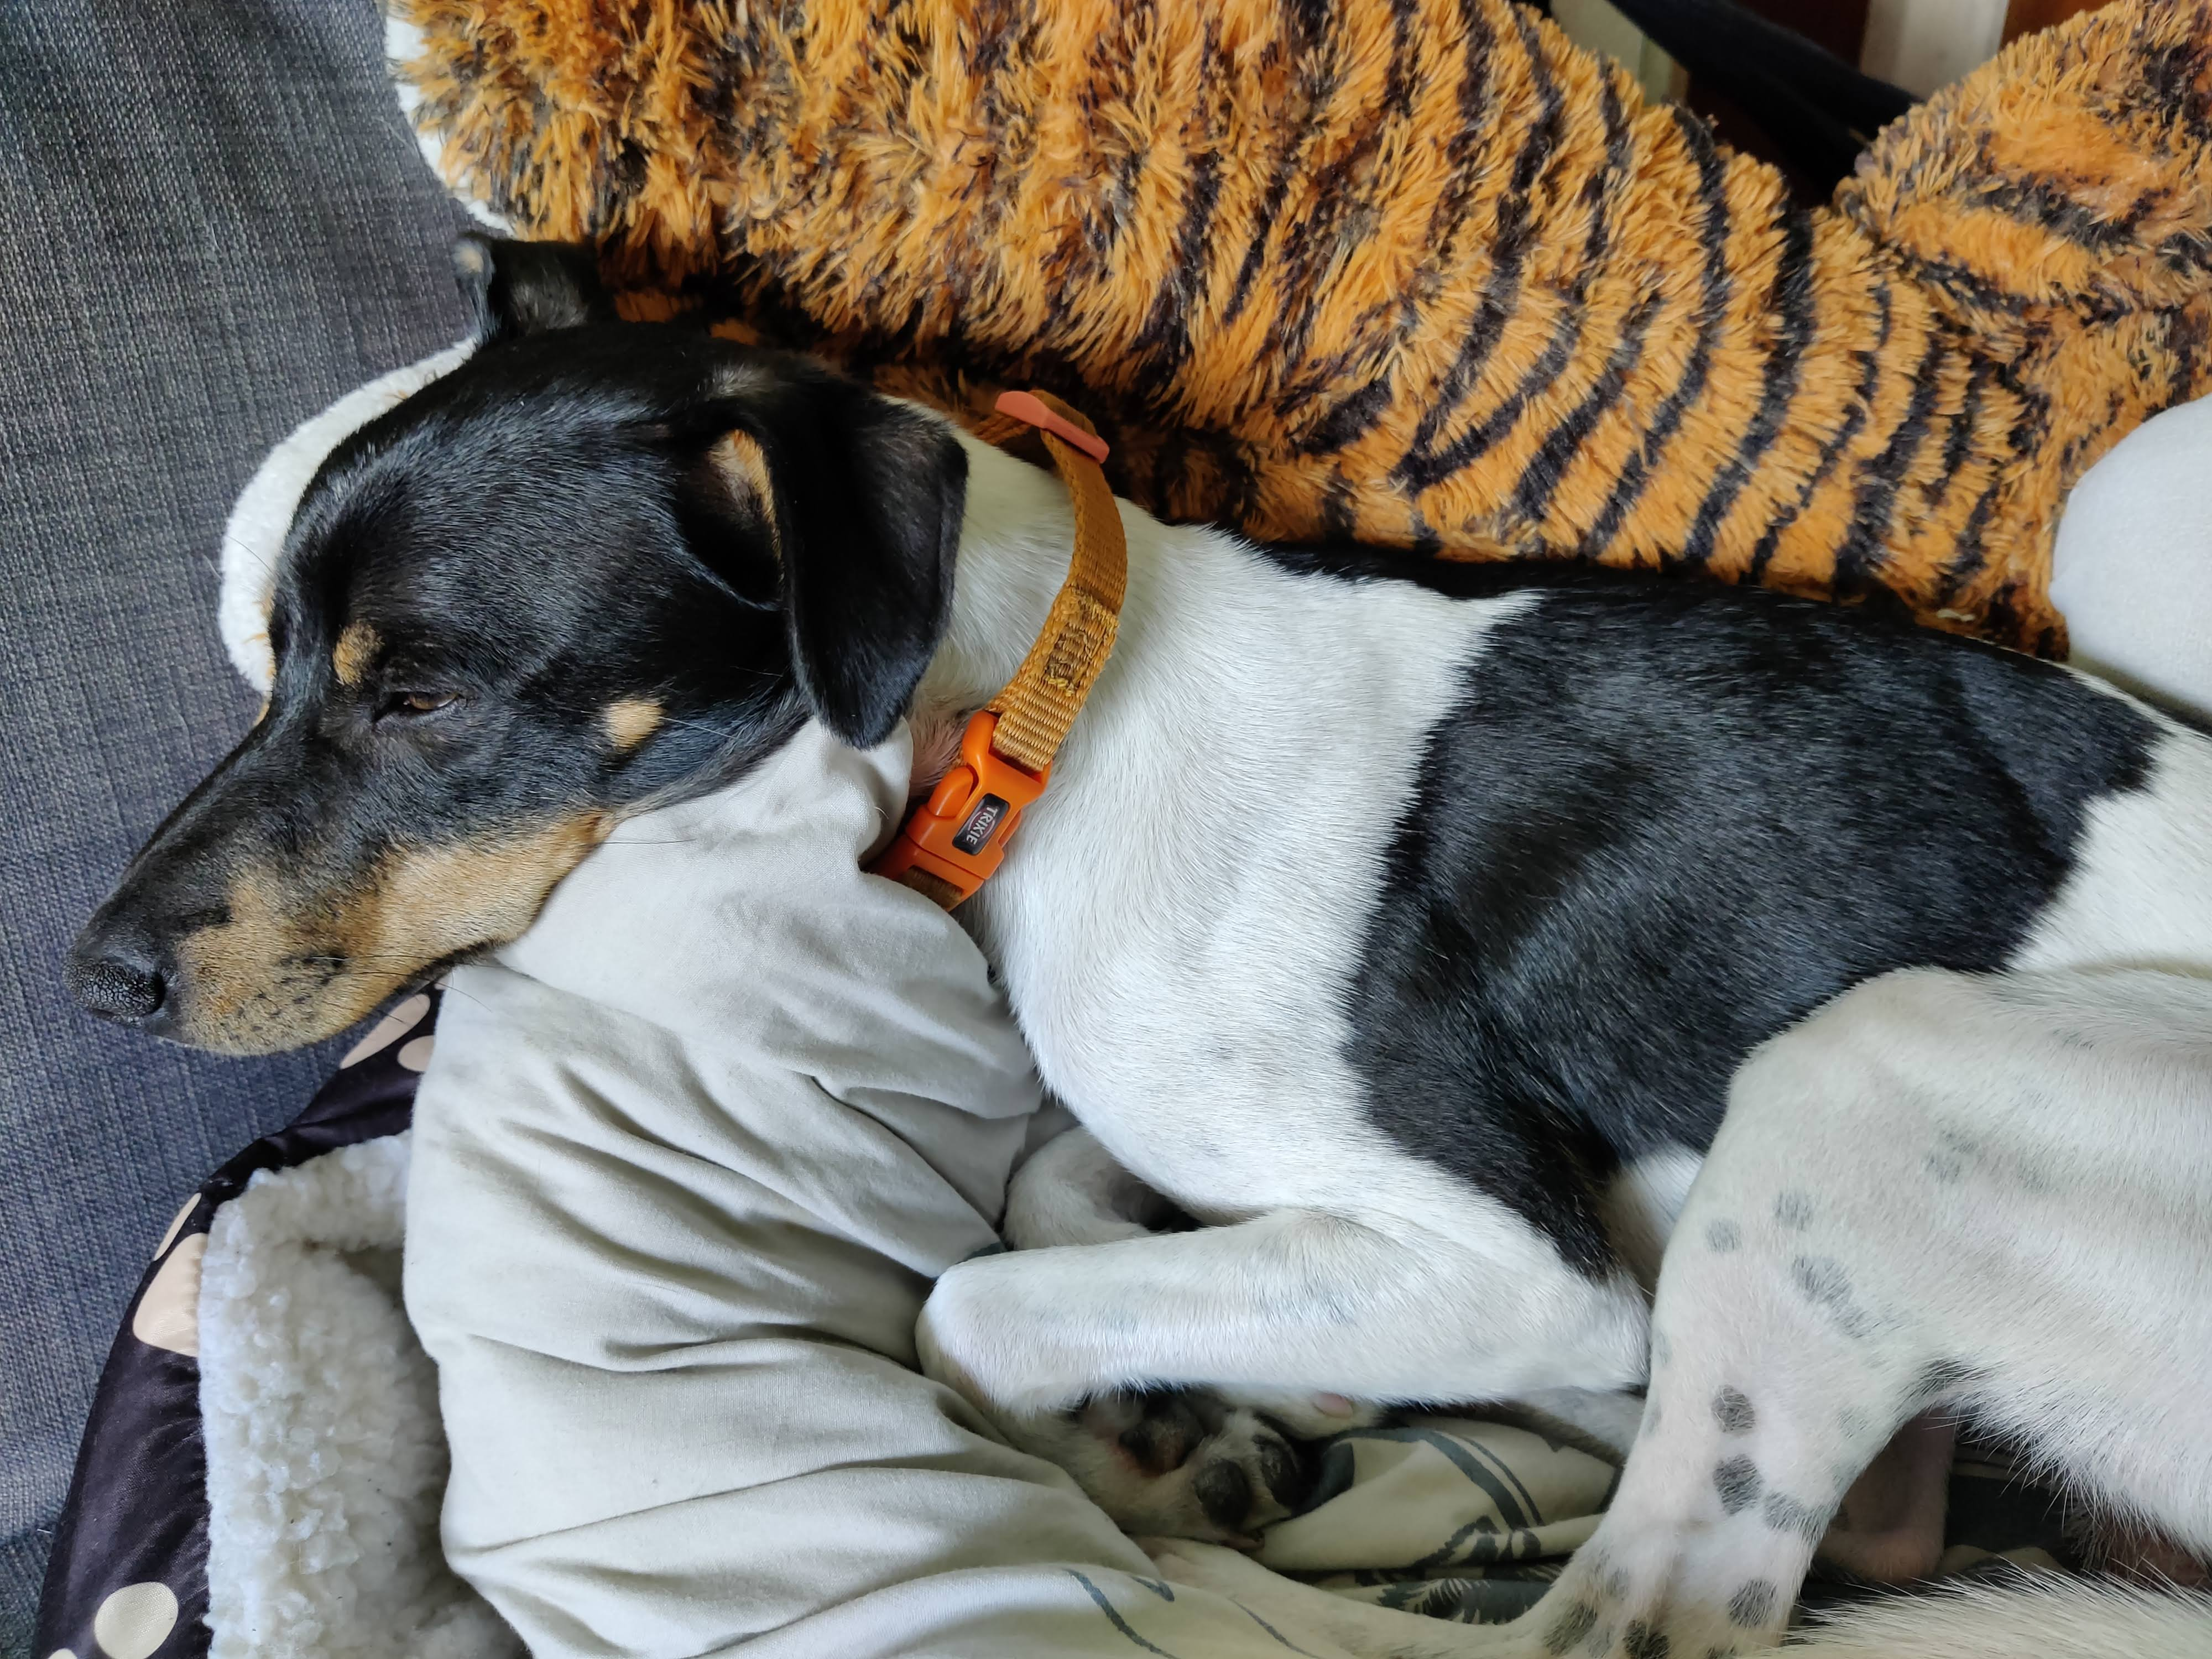Dog: (49, 220, 2212, 1659)
